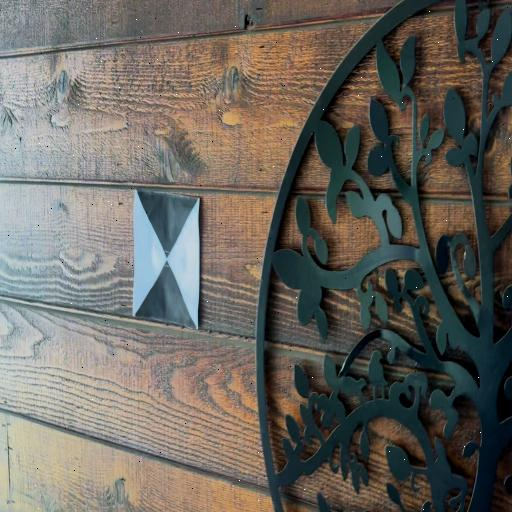target: (132, 190, 200, 330)
